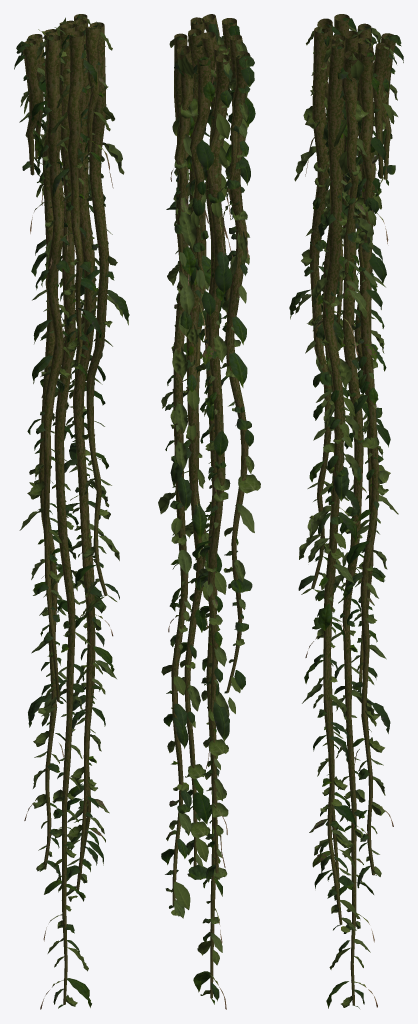
The model's file is SM_Vine_Mid.fbx.
3 renders of one model, left to right at view 1: azimuth 90°, elevation 25°; view 2: azimuth 210°, elevation 25°; view 3: azimuth 270°, elevation 25°, orthographic.
Parts seen in each view (by area): view 1: SM_Vine_Mid_LOD0; view 2: SM_Vine_Mid_LOD0; view 3: SM_Vine_Mid_LOD0.
Part boxes in pixels (box(x1,y1,x2,y2)): SM_Vine_Mid_LOD0: box(14, 14, 129, 1009); SM_Vine_Mid_LOD0: box(158, 14, 260, 1009); SM_Vine_Mid_LOD0: box(289, 14, 403, 1008).
Bounding box in the file's own units: 79.6 × 94.65 × 895.
